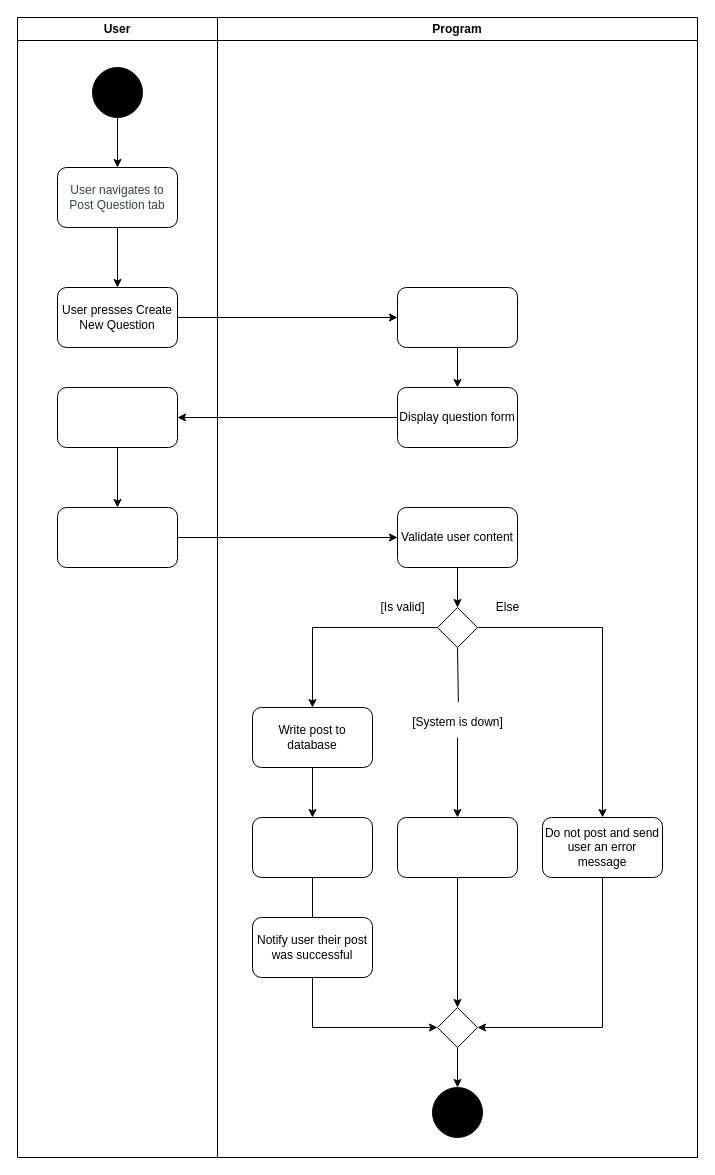
This 715x1175 diagram has some shape labels left out. Each missing label, with the centre of its shape:
Generate question form: point (457, 317)
Send user a notification to resubmit their question later: point (457, 847)
Set post to visible on the CodeQA site: point (312, 847)
User decides title, question content and ascribes tags: point (117, 417)
User presses the Post Question button: point (117, 537)
